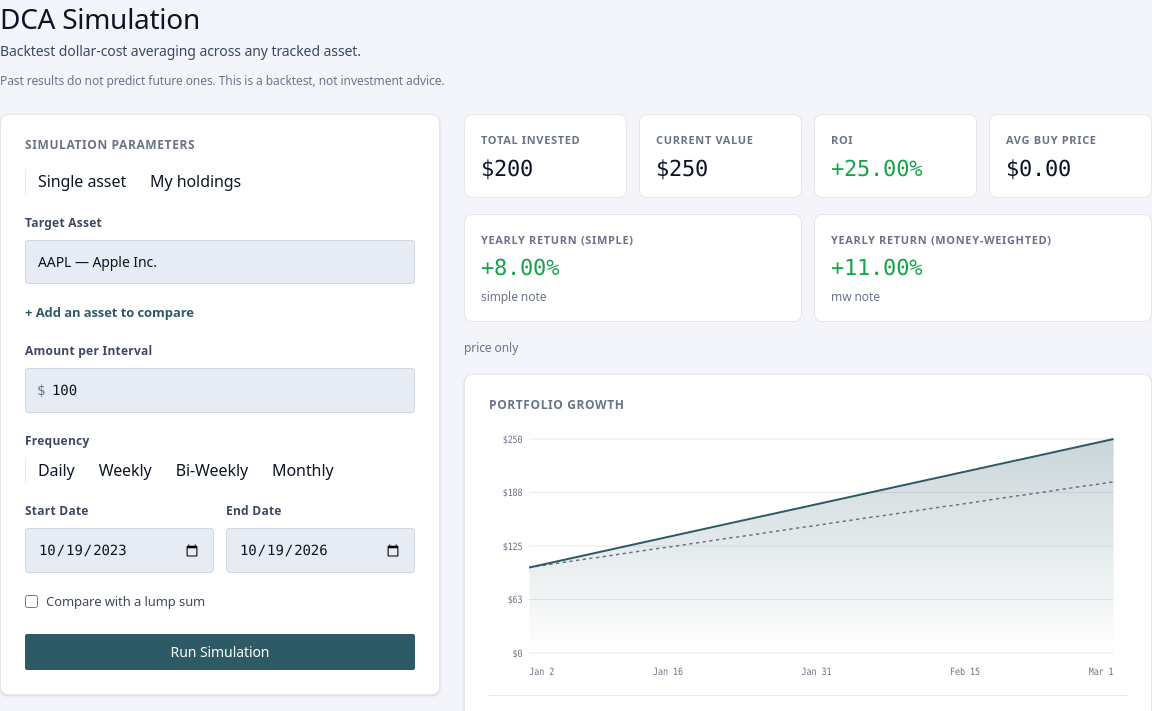
Test case: DCASimulation: simulate my holdings › says so when no holding has enough history
expect the text "Total Invested" is shown: met, box [481, 132, 580, 147]
Step 1. Click the radio button labelled "My holdings" → [196, 182], box [138, 169, 253, 195]
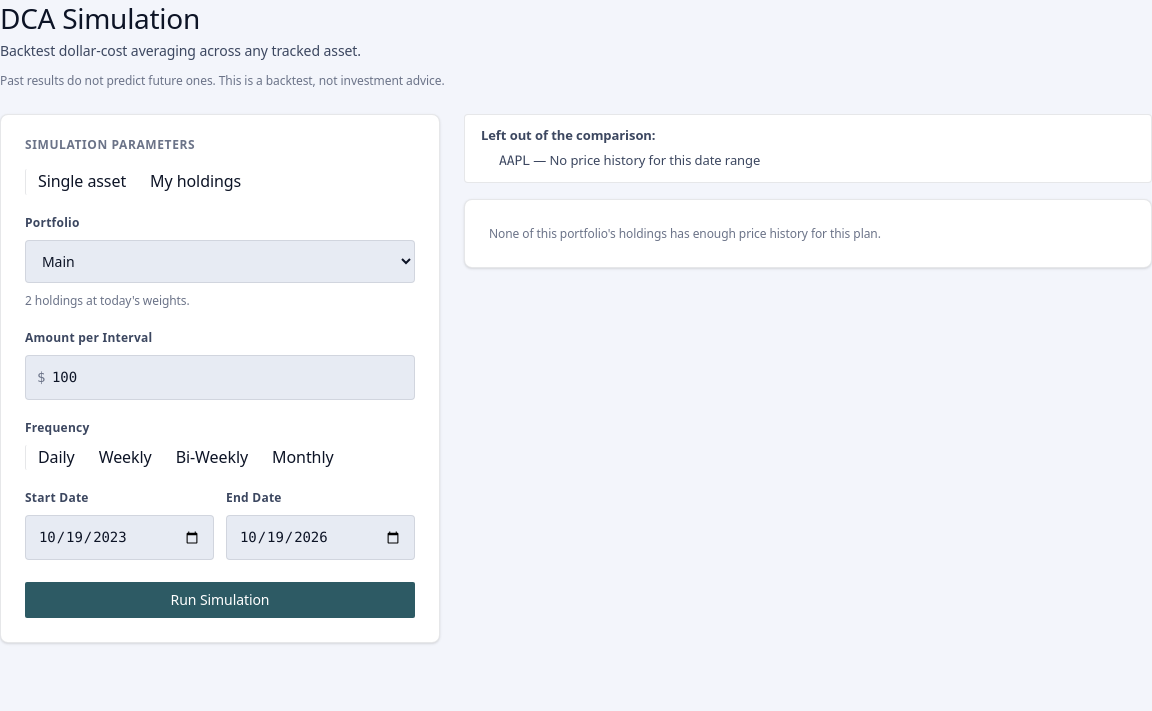
expect the text "None of this portfolio's holdings has enough price history" is shown: met, box [489, 225, 881, 242]
